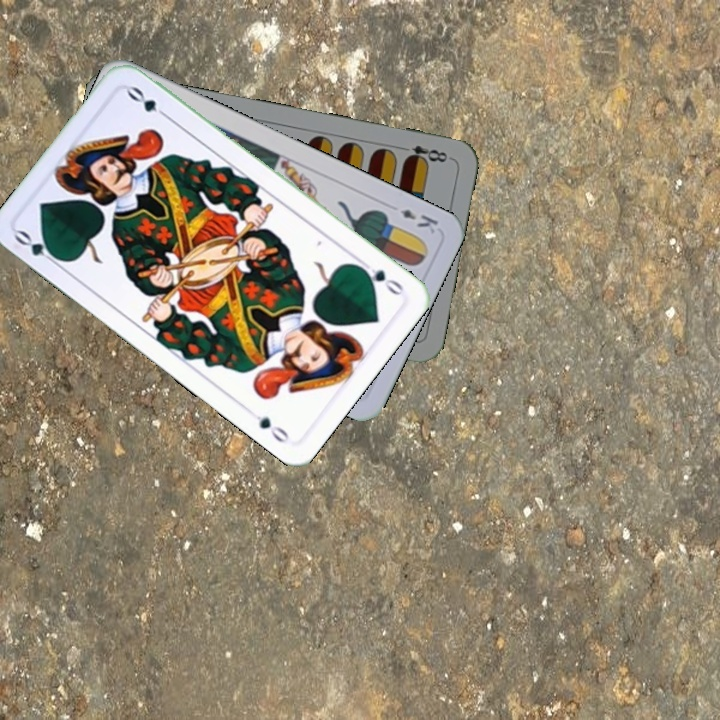E8: (395, 141, 450, 167)
EK: (396, 205, 441, 236)
GO: (10, 226, 66, 270), (353, 255, 407, 299)
